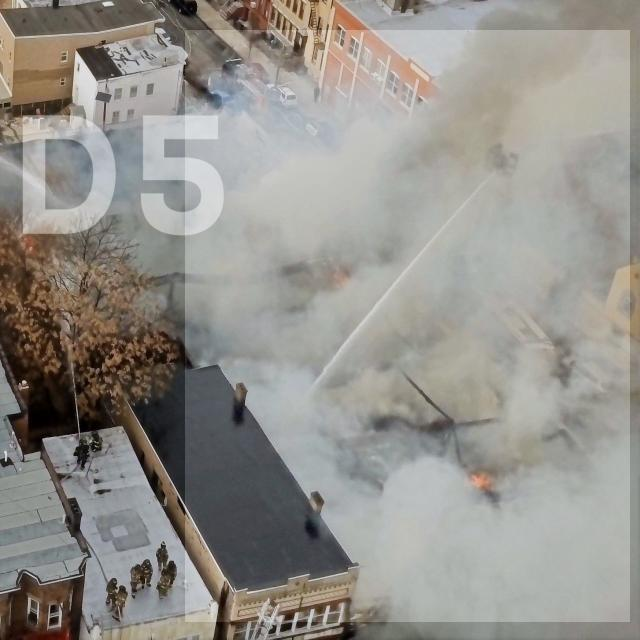Smoke: (185, 30, 630, 622)
